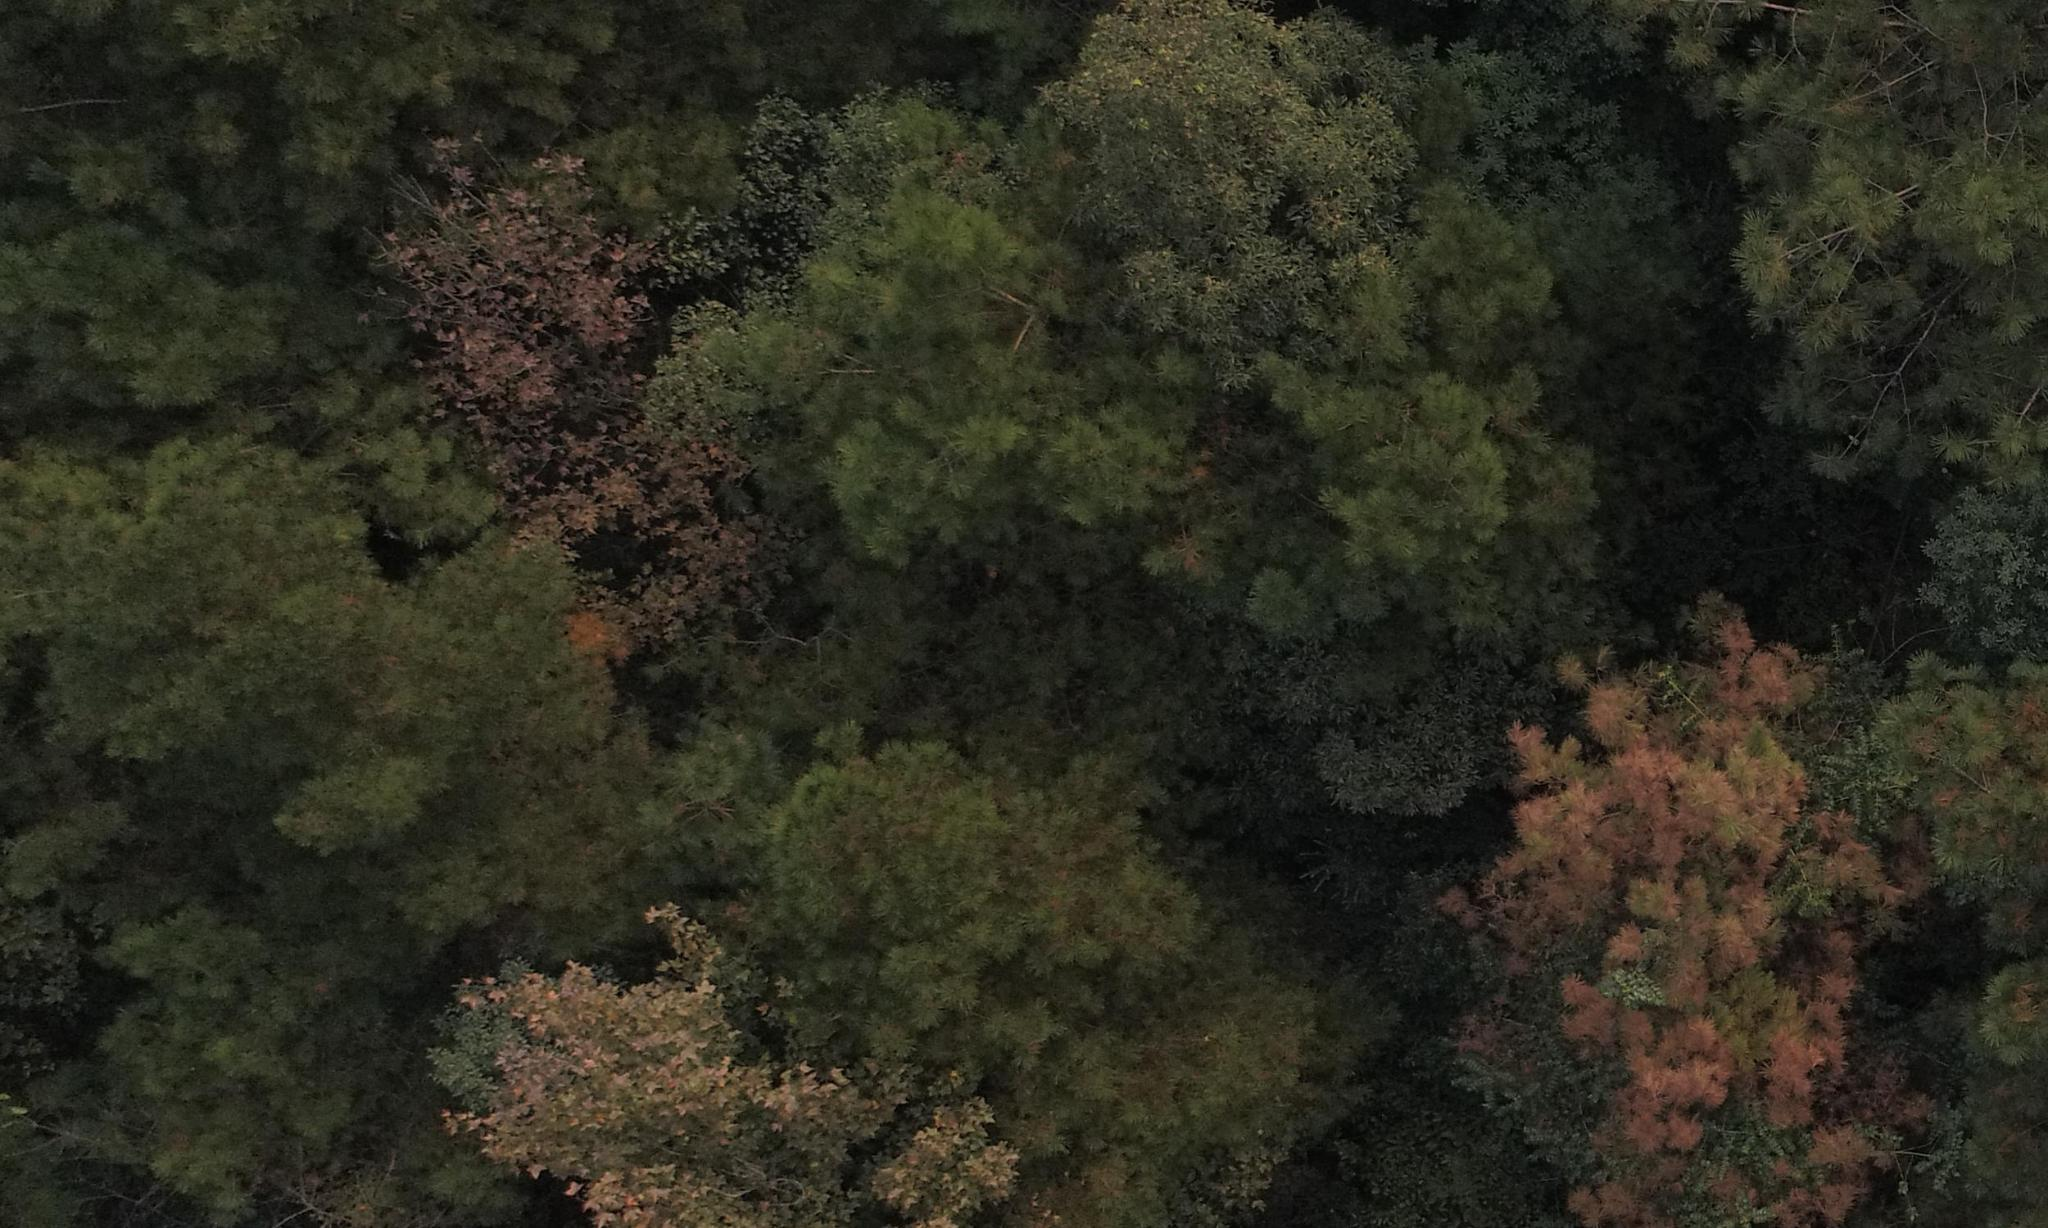heavy: (1463, 585, 1900, 1206)
